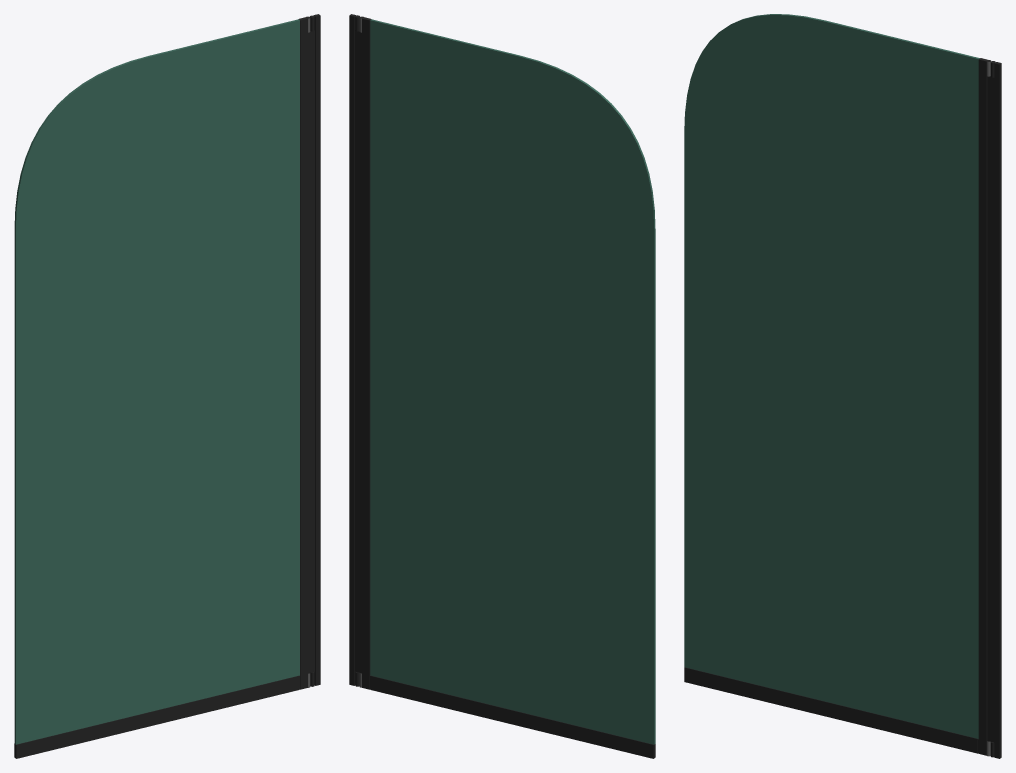
File: Vanova_zastena_Modern_1_Santech_opt.FBX
The picture shows the model from 3 angles, left to right: view 1: azimuth 30°, elevation 25°; view 2: azimuth 150°, elevation 25°; view 3: azimuth 330°, elevation 25°; orthographic projection. The views are drawn at different scales.
Visible parts, largest first — view 1: sklo_Vanova_zastena_Modern_1_Santech, dvierka_lista_nerez_Vanova_zastena_Modern_1_Santech, drziak_lista_nerez_Vanova_zastena_Modern_1_Santech; view 2: sklo_Vanova_zastena_Modern_1_Santech, dvierka_lista_nerez_Vanova_zastena_Modern_1_Santech, drziak_lista_nerez_Vanova_zastena_Modern_1_Santech; view 3: sklo_Vanova_zastena_Modern_1_Santech, dvierka_lista_nerez_Vanova_zastena_Modern_1_Santech, drziak_lista_nerez_Vanova_zastena_Modern_1_Santech.
Part boxes in pixels (box(x1,y1,x2,y2)): sklo_Vanova_zastena_Modern_1_Santech: box(14, 19, 299, 744); dvierka_lista_nerez_Vanova_zastena_Modern_1_Santech: box(14, 16, 310, 758); drziak_lista_nerez_Vanova_zastena_Modern_1_Santech: box(310, 14, 320, 686); sklo_Vanova_zastena_Modern_1_Santech: box(370, 19, 655, 744); dvierka_lista_nerez_Vanova_zastena_Modern_1_Santech: box(359, 16, 655, 758); drziak_lista_nerez_Vanova_zastena_Modern_1_Santech: box(349, 14, 359, 686); sklo_Vanova_zastena_Modern_1_Santech: box(684, 14, 979, 738); dvierka_lista_nerez_Vanova_zastena_Modern_1_Santech: box(684, 58, 990, 756); drziak_lista_nerez_Vanova_zastena_Modern_1_Santech: box(990, 61, 1001, 758).
Size of the model in its own units: 26.8 by 56.3 by 0.3622.
